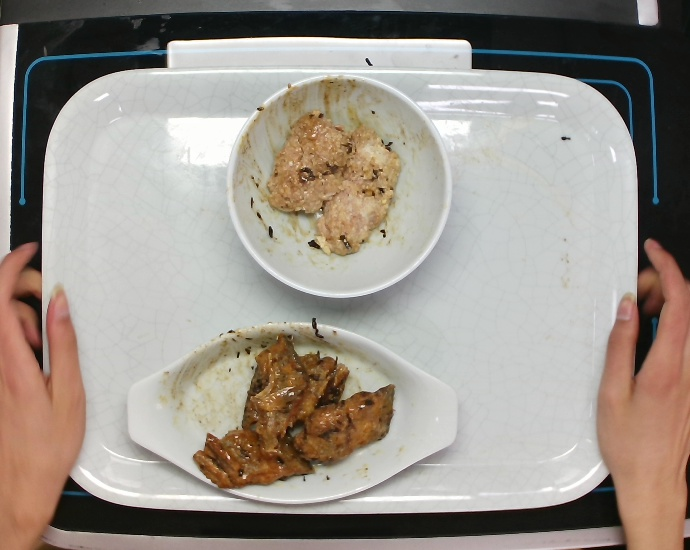JYsf-Fan_Wan: (218, 68, 462, 308)
JYsf-Yu_Pan: (116, 308, 473, 508)
